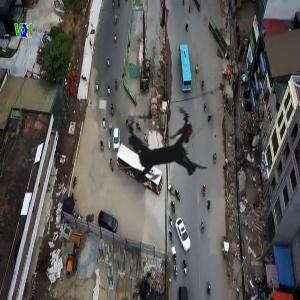drone: (81, 75, 240, 234)
